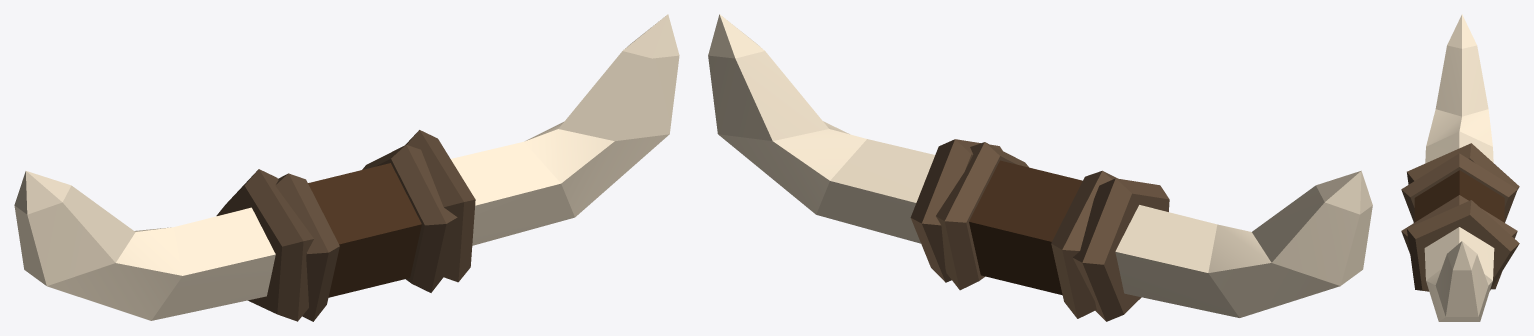
The model's file is Tribal_Plains_Horns_Wrap_Decoration_01.fbx.
3 views of the same model, side by side, from view 1: azimuth 30°, elevation 25°; view 2: azimuth 150°, elevation 25°; view 3: azimuth 270°, elevation 25° (orthographic). The views are drawn at different scales.
Parts seen in each view (by area): view 1: Tribal_Plains_Horns_Wrap_Decoration_01; view 2: Tribal_Plains_Horns_Wrap_Decoration_01; view 3: Tribal_Plains_Horns_Wrap_Decoration_01.
Part boxes in pixels (x1,y1,x2,y2): Tribal_Plains_Horns_Wrap_Decoration_01: [14, 14, 679, 321]; Tribal_Plains_Horns_Wrap_Decoration_01: [708, 14, 1372, 321]; Tribal_Plains_Horns_Wrap_Decoration_01: [1401, 14, 1519, 321].
Bounding box in the file's own units: 3.42 × 0.9928 × 0.7428.
